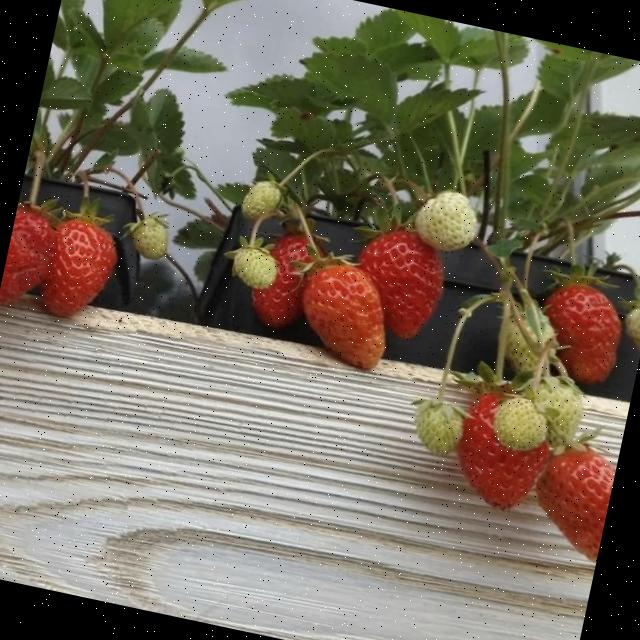Ripe Strawberry: (450, 388, 556, 518), (346, 225, 452, 342), (292, 258, 398, 370), (525, 440, 618, 559), (533, 280, 626, 384), (39, 212, 122, 324), (251, 231, 320, 329), (0, 207, 58, 308)
